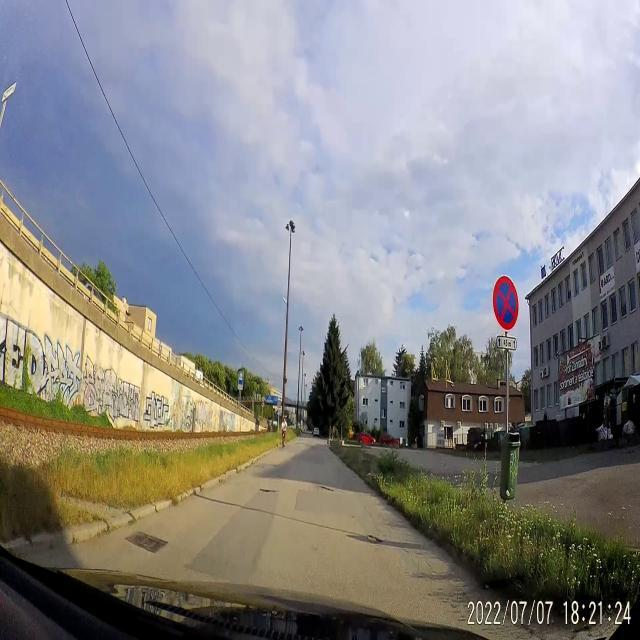Manhole: (124, 528, 170, 554)
Pothole: (365, 530, 385, 546), (318, 480, 336, 494), (257, 486, 280, 495)
